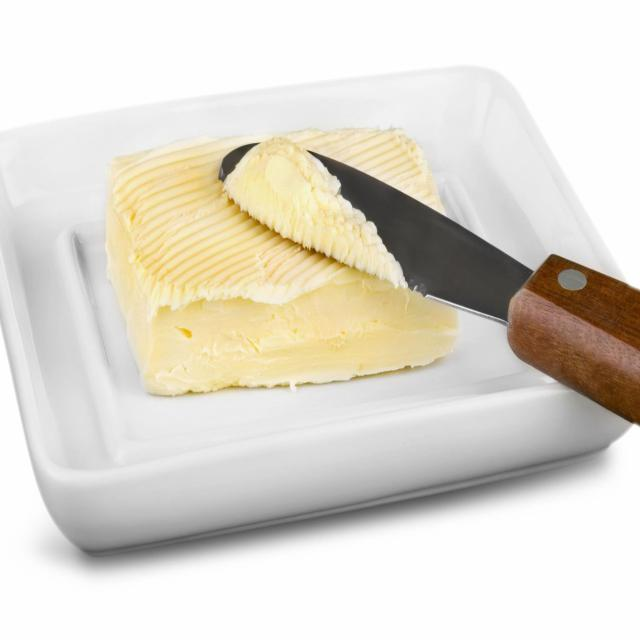butter: (103, 119, 460, 395)
